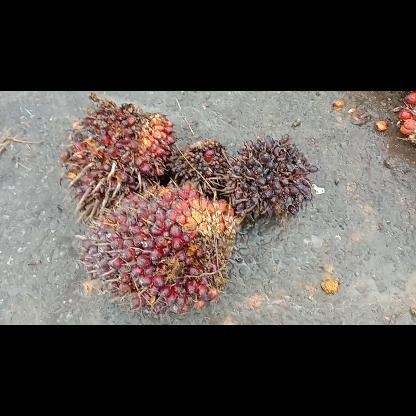TBS abnormal: (214, 132, 324, 226), (174, 137, 230, 201)
TBS masak: (76, 180, 240, 318), (57, 90, 178, 218)
